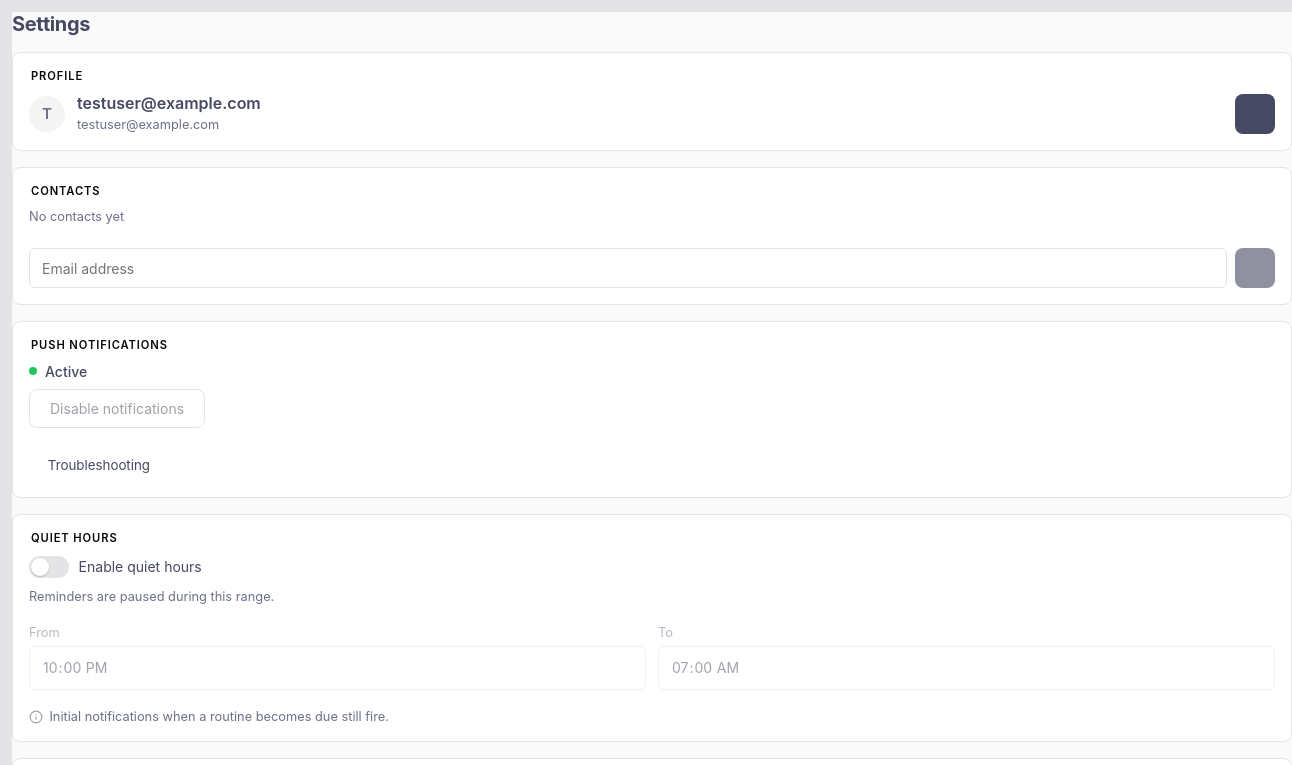
Test: SettingsPage › shows error when test notification throws network error
Click the button with test id "push-troubleshooting-toggle".
click(99, 465)  # box [29, 449, 1275, 481]
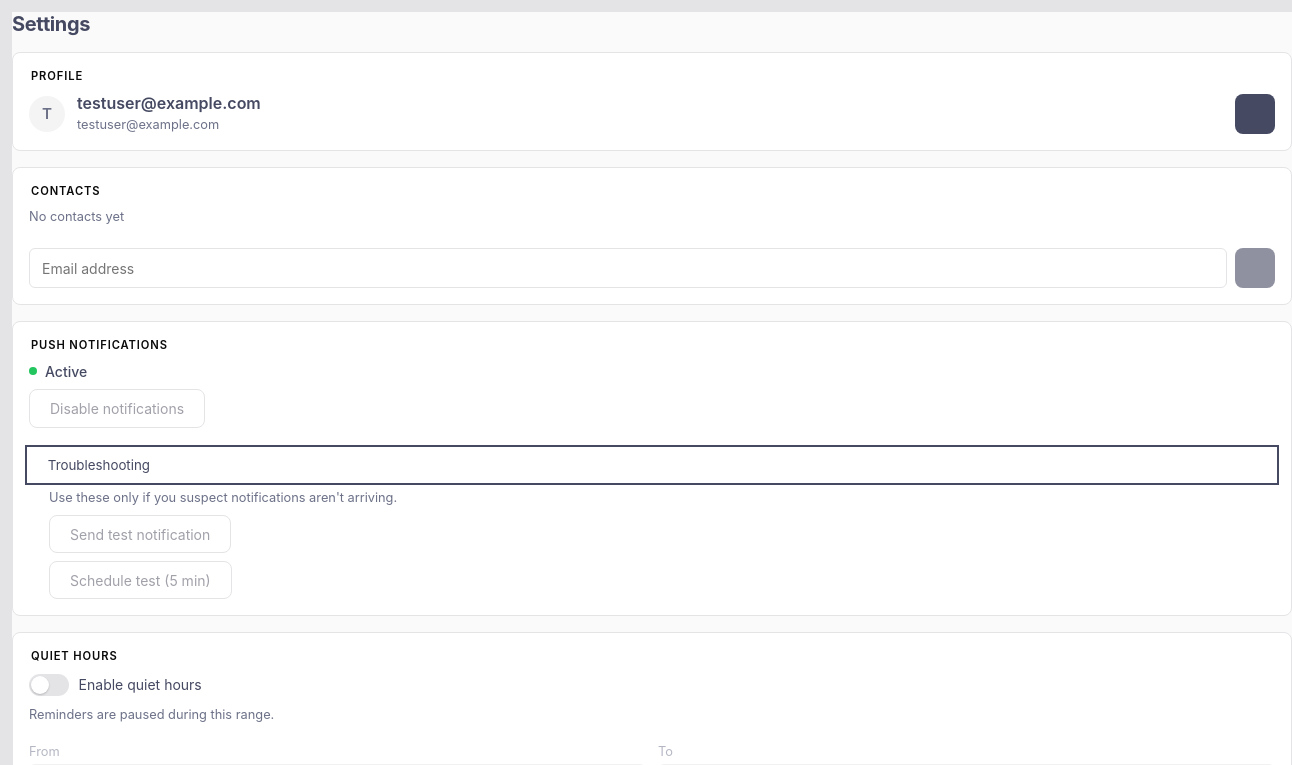
Click the button "Send test notification".
click(140, 534)  # box [49, 515, 231, 553]
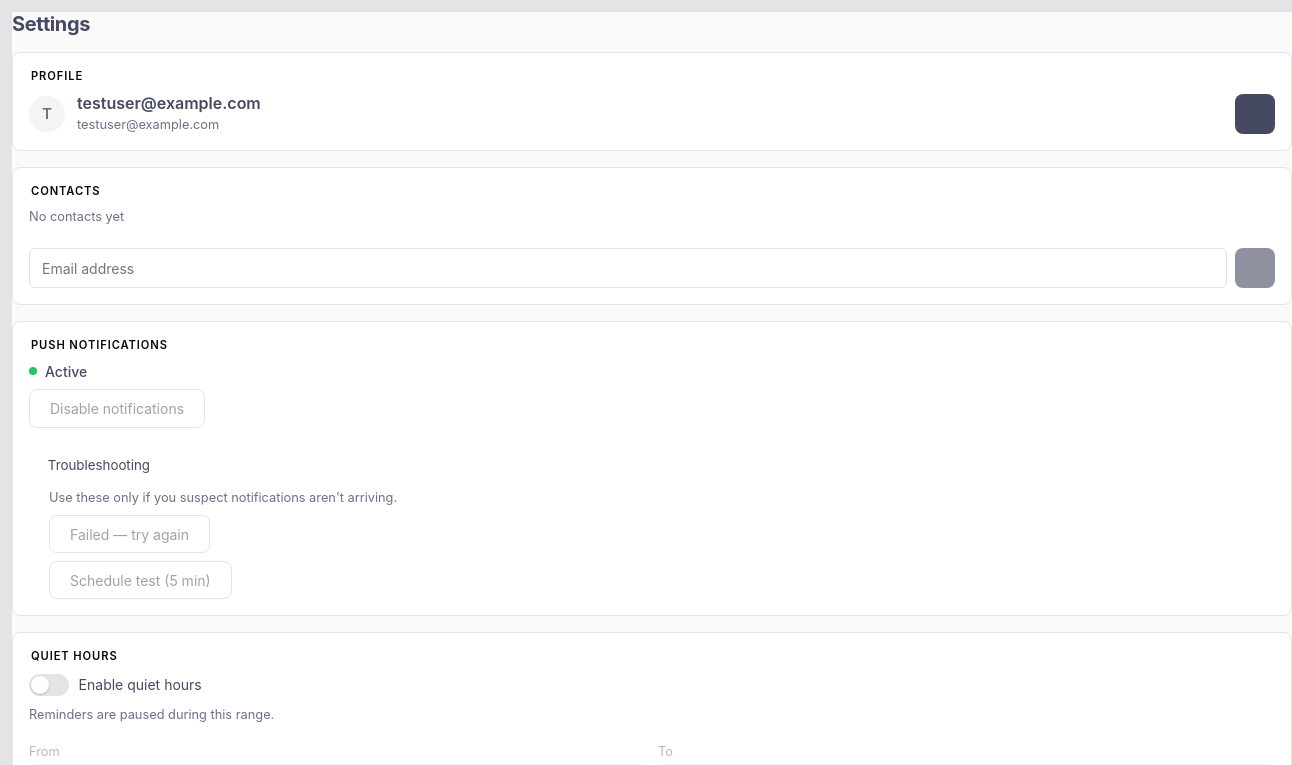
Expected: the button "Failed — try again" is shown, [49, 515, 210, 553]
